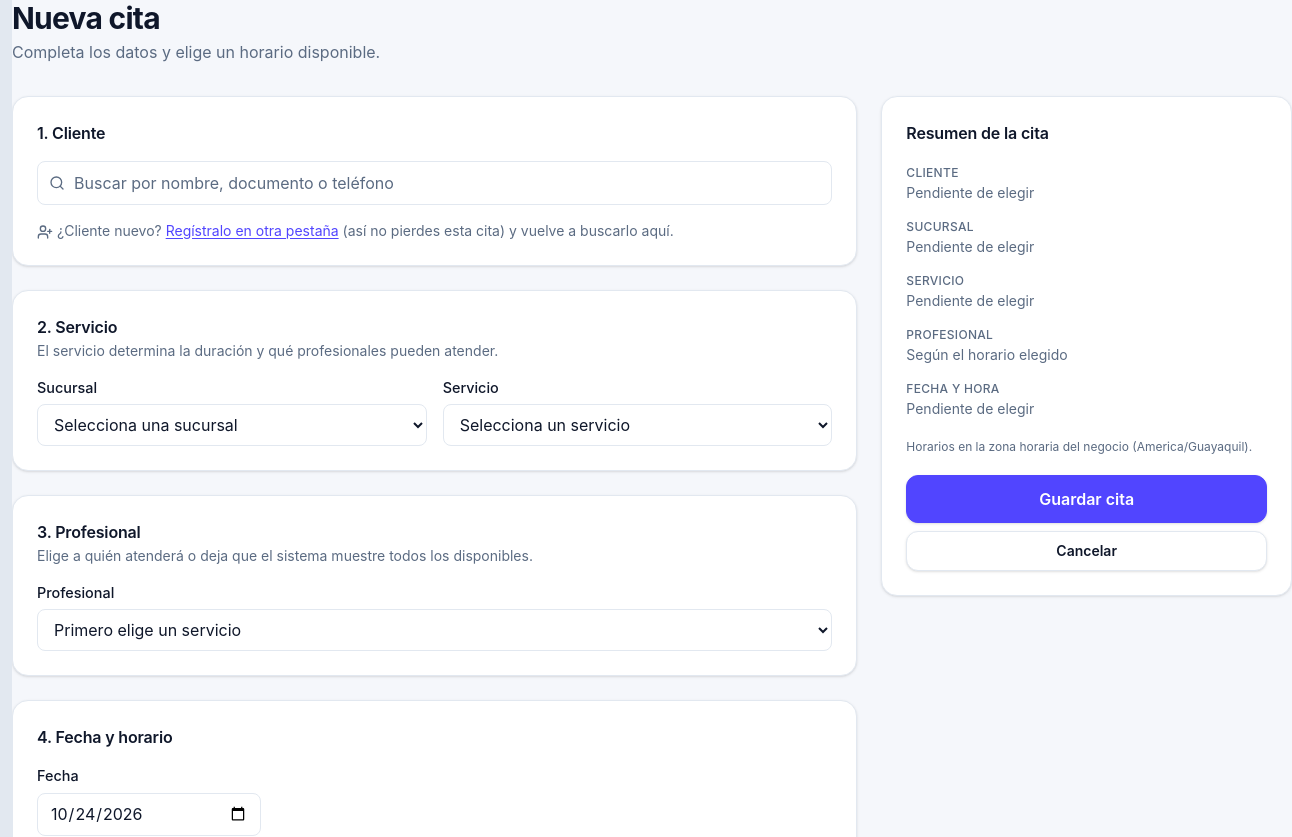
Scenario: BookAppointmentPage (Nueva cita) › si el horario fue tomado por otra persona (409) conserva los datos, avisa y recarga la disponibilidad
Type "María" into the search field named "Cliente".
click(435, 183); type("María")  # box top-left (37, 161), bottom-right (832, 205)
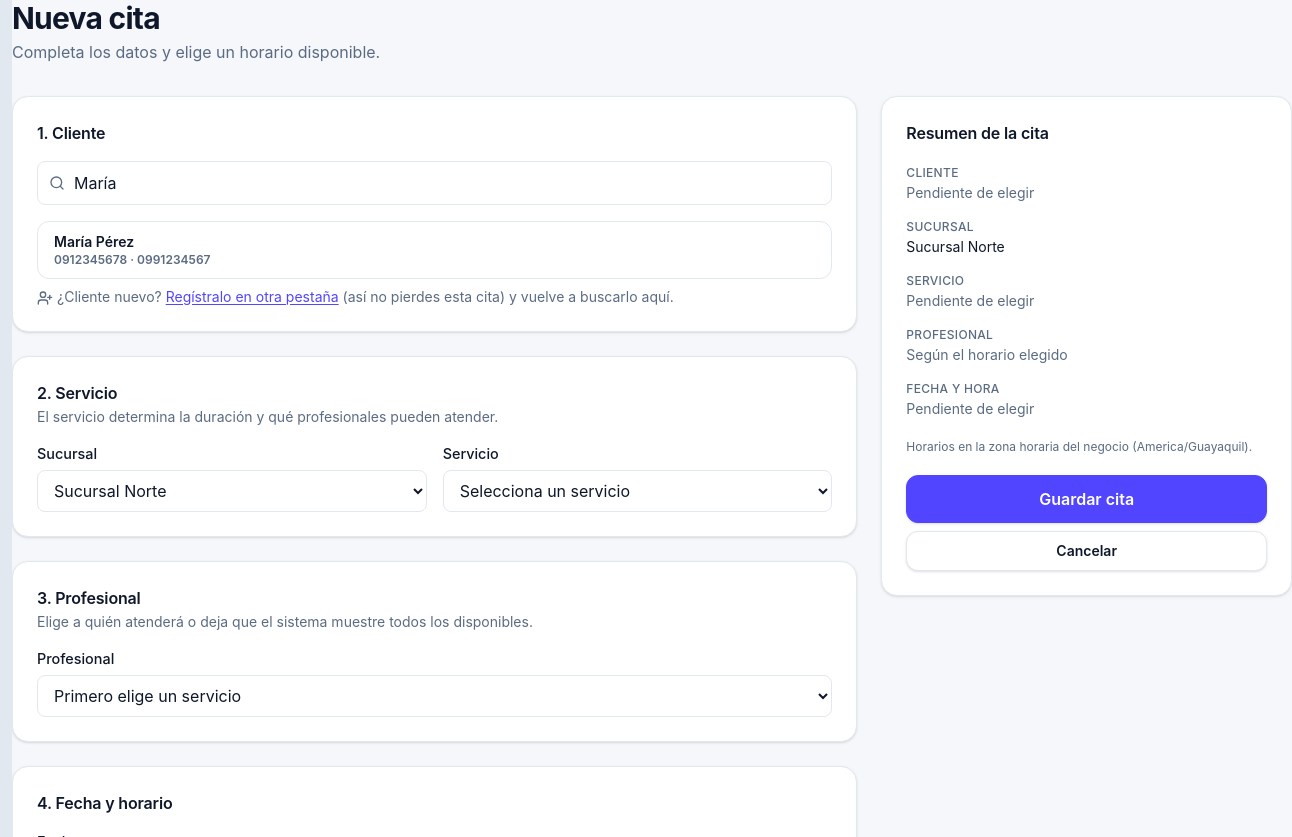
Click the button "María Pérez 0912345678 · 0991234567".
click(94, 241)  # box top-left (38, 222), bottom-right (831, 278)
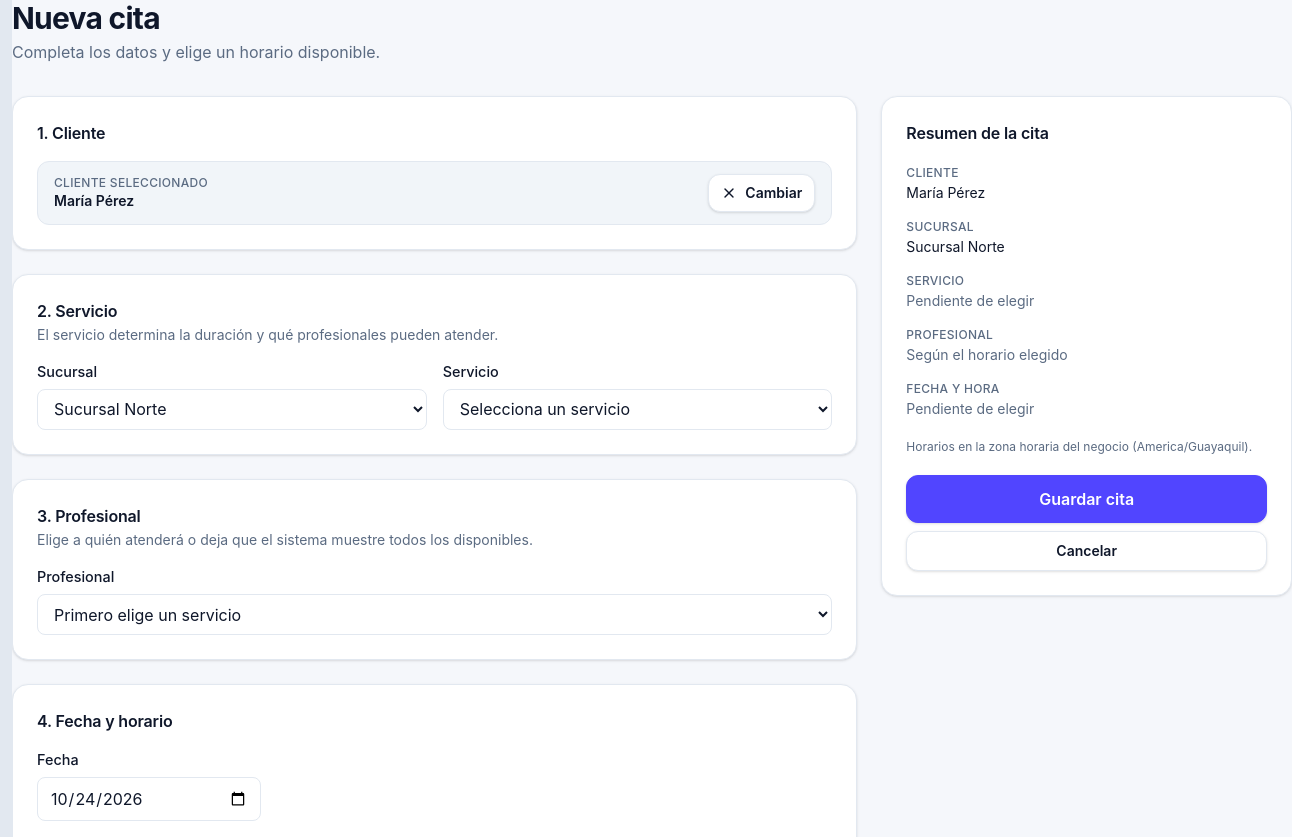
Select "Corte (30 min)" in the dropdown labelled "Servicio" at (638, 409), box top-left (443, 389), bottom-right (832, 430)
(page scrolled)
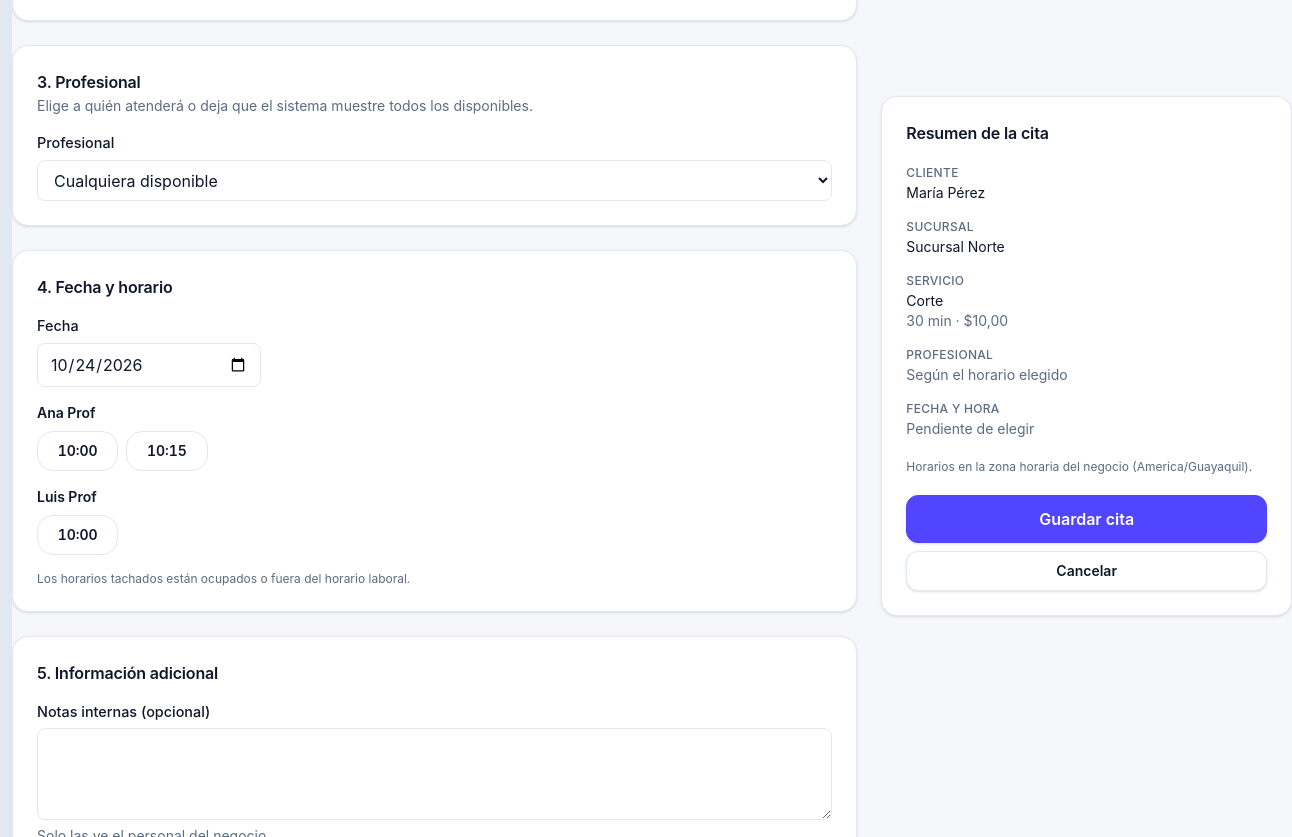
Click the button "10:15".
click(167, 451)  # box top-left (126, 431), bottom-right (208, 471)
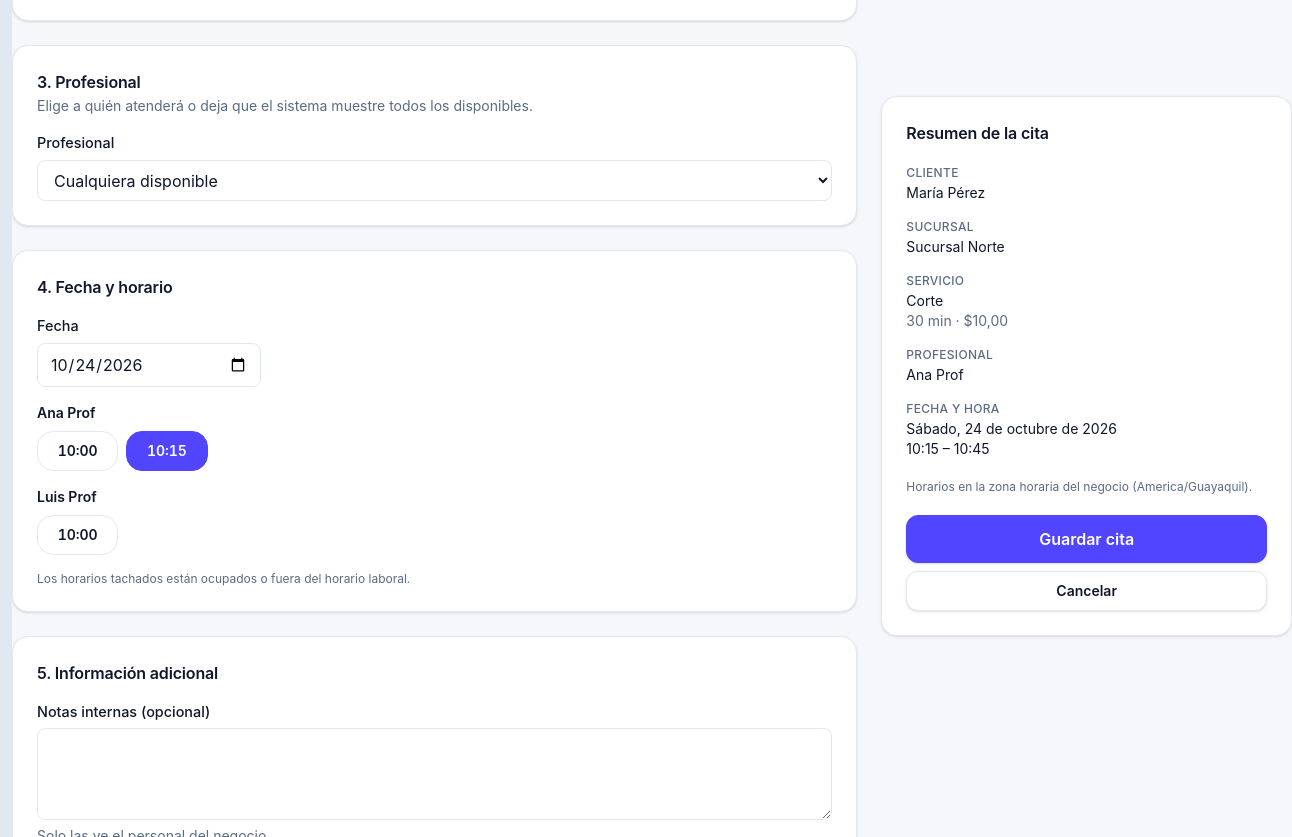
Type "No perder esto" into the text box labelled "Notas internas (opcional)".
click(435, 774); type("No perder esto")  # box top-left (37, 728), bottom-right (832, 820)
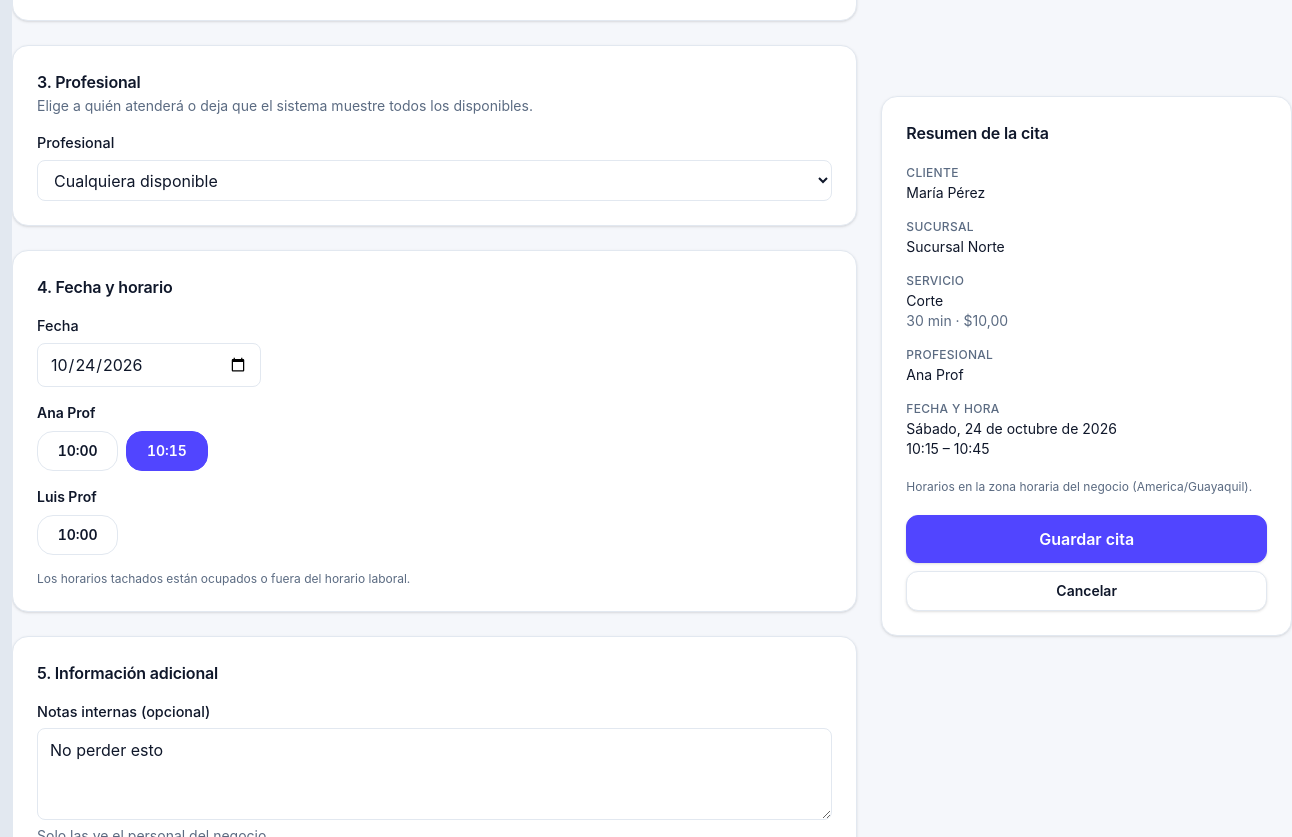
Click the button "Guardar cita".
click(1087, 539)  # box top-left (906, 515), bottom-right (1267, 563)
(page scrolled)
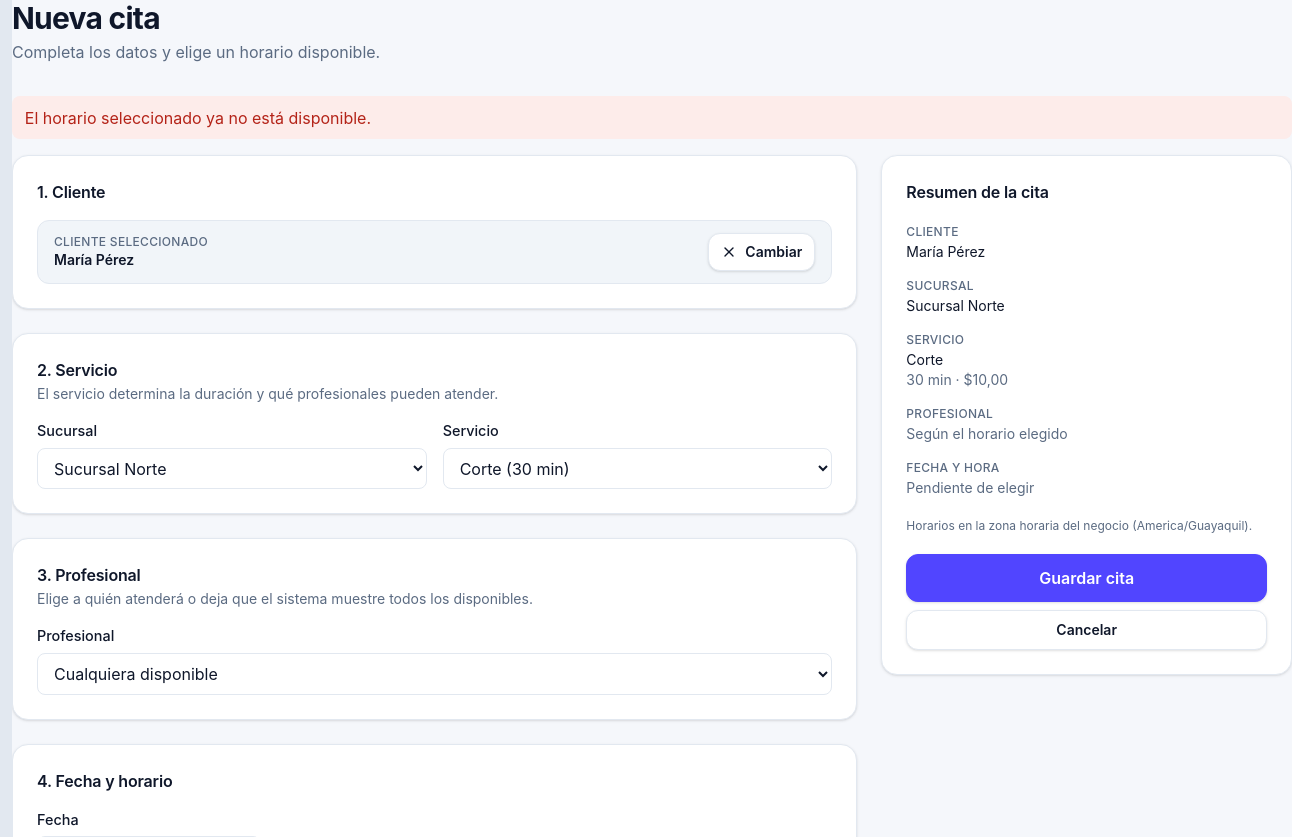
Now the text "María Pérez" below "Cliente seleccionado" is shown, box top-left (54, 251), bottom-right (134, 268)
Now the text "El horario seleccionado ya no está disponible." is shown, box top-left (12, 96), bottom-right (1291, 139)
